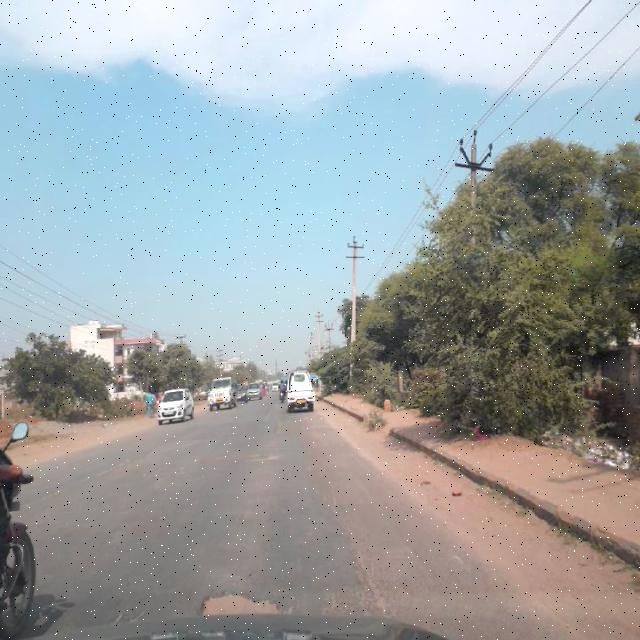D40: (186, 580, 297, 617)
